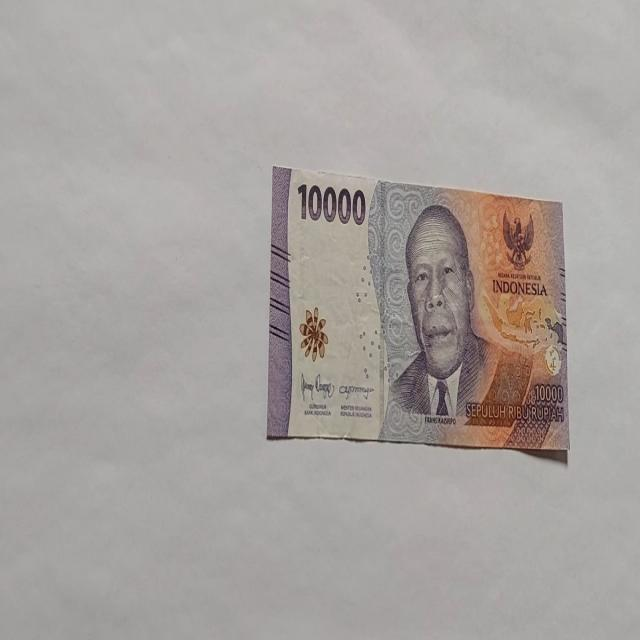sepuluh ribu rupiah: (266, 164, 570, 452)
